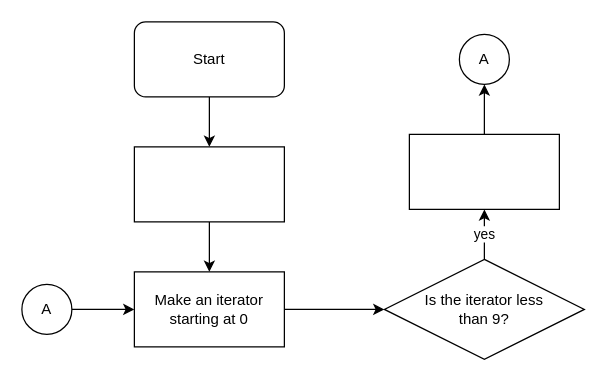
Some shapes in this 606 by 381 pixel diagram are drawn without their labels. The shapes that lost their labels are listed below. From the top down, each one's centre as x and y in pixels, then its label:
At [208,184]: "Make a list of numbers from 1 to 9".
At [483,171]: "list of numbers at index of iterator gets cubed".
